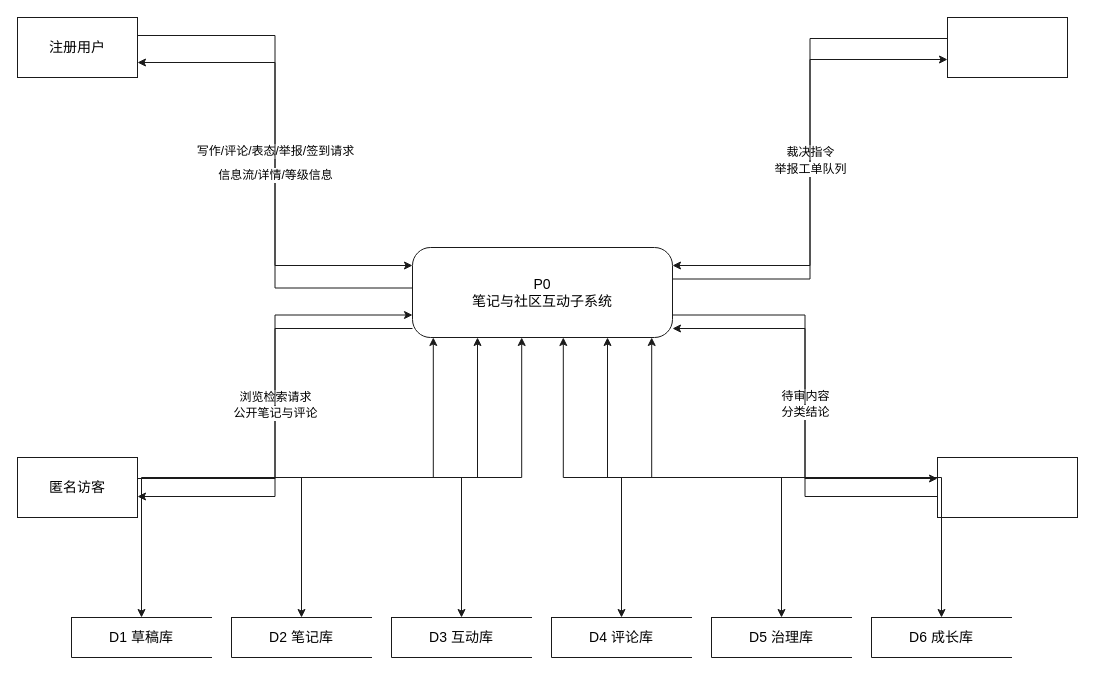
The diagram is 1095 pixels wide and 675 high, and some of its shapes have lost their labels. The centre of each missing label's shape, as x and y in pixels:
"AI 审核服务" belongs at (x=1007, y=487).
"管理员" belongs at (x=1007, y=47).
